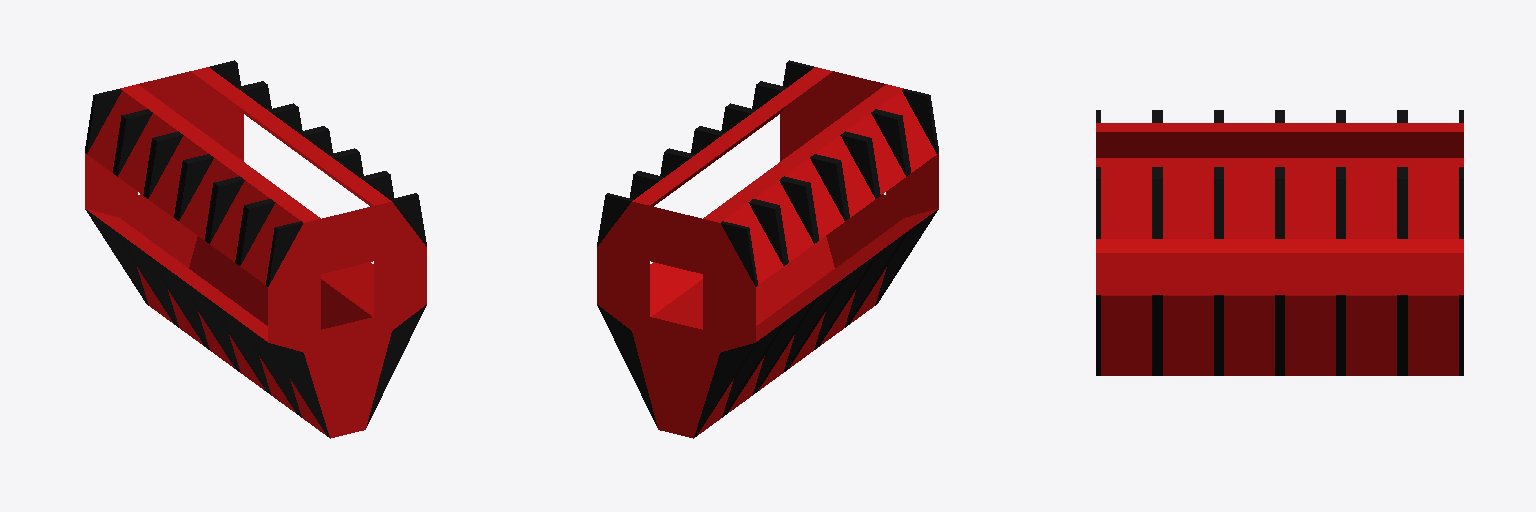
Rendered from Cargo_Hull.obj.
The picture shows the model from 3 angles: view 1: azimuth 30°, elevation 25°; view 2: azimuth 150°, elevation 25°; view 3: azimuth 270°, elevation 25°; orthographic projection.
Parts seen in each view (by area): view 1: Hull_Outside_Cube.001, Hull_Outside_Detail_Cube.002; view 2: Hull_Outside_Cube.001, Hull_Outside_Detail_Cube.002; view 3: Hull_Outside_Cube.001, Hull_Outside_Detail_Cube.002.
Boxes of the visible parts, box(x1,y1,x2,y2) form: Hull_Outside_Cube.001: box(85, 67, 426, 438); Hull_Outside_Detail_Cube.002: box(85, 60, 426, 437); Hull_Outside_Cube.001: box(597, 67, 938, 438); Hull_Outside_Detail_Cube.002: box(597, 60, 938, 437); Hull_Outside_Cube.001: box(1096, 123, 1463, 375); Hull_Outside_Detail_Cube.002: box(1096, 110, 1463, 375).
Size of the model in its own units: 9 by 12 by 18.